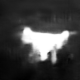plane: (19, 24, 79, 66)
